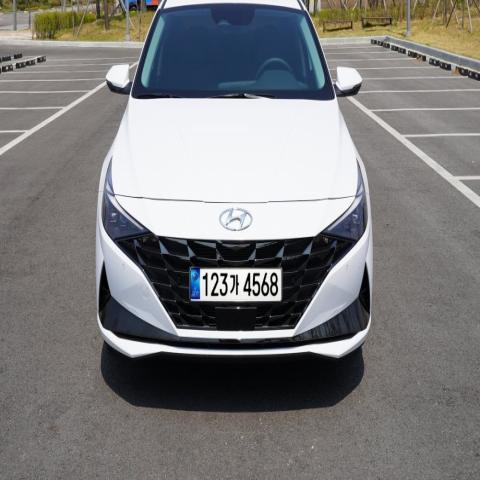LP: (179, 261, 288, 308)
